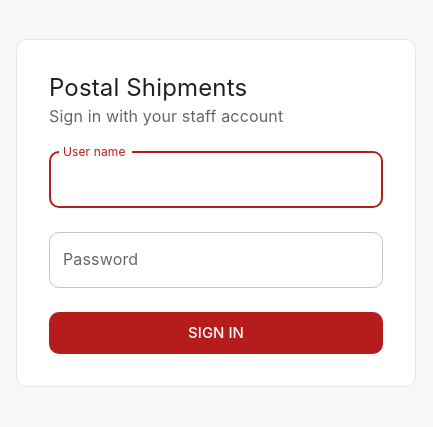
Test case: LoginPage › validates required fields without calling the API
What coordinates should you click on to do the following:
click the button "Sign in"
I would click on:
 (216, 333)
Its box is 49,312 -> 383,354.
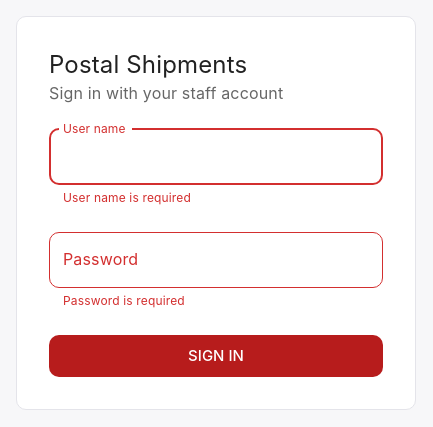
Result: the text "User name is required" is shown at 63,190 -> 191,205
Result: the text "Password is required" is shown at 63,293 -> 185,308
